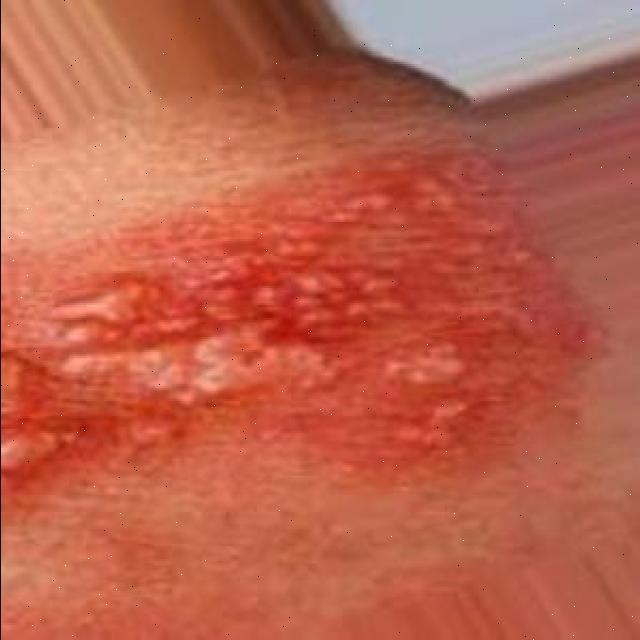Shingles: (0, 157, 555, 509)
